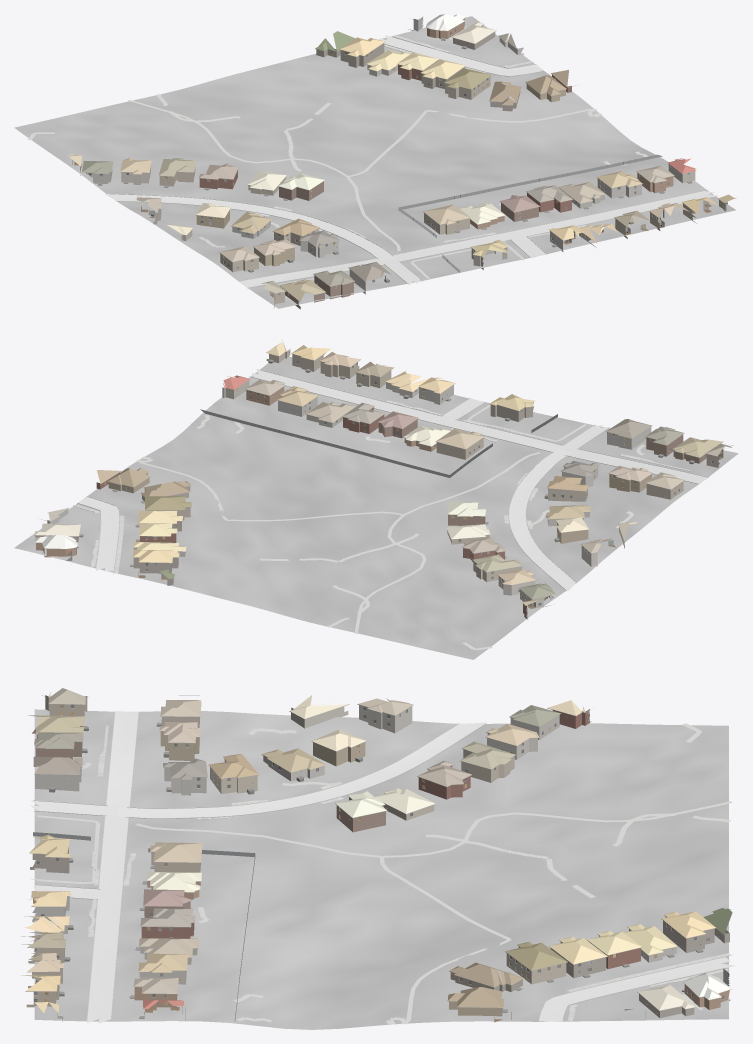
3 views of the same model, one above another, from view 1: azimuth 30°, elevation 25°; view 2: azimuth 150°, elevation 25°; view 3: azimuth 270°, elevation 25° (orthographic). The views are drawn at different scales.
Parts seen in each view (by area): view 1: ground, roof, wall, concrete, walk, asphalt, wall_stucco, detail, wall_stone, curb, chain; view 2: ground, roof, wall, concrete, walk, asphalt, wall_stucco, detail, wall_stone, curb, chain; view 3: ground, roof, wall, concrete, walk, asphalt, wall_stucco, detail, wall_stone, curb, glass, chain.
Part boxes in pixels (x1,y1,x2,y2): ground: (14,16,735,308); roof: (68,14,735,301); wall: (72,18,696,309); concrete: (239,35,718,287); walk: (28,27,647,284); asphalt: (104,194,420,284); wall_stucco: (121,16,726,247); detail: (66,17,727,301); wall_stone: (90,38,641,294); curb: (108,36,716,288); chain: (398,154,662,272); ground: (14,356,738,659); roof: (34,339,733,605); wall: (35,353,719,619); concrete: (77,369,707,571); walk: (73,400,690,650); asphalt: (509,425,609,591); wall_stucco: (72,349,624,595); detail: (34,351,724,616); wall_stone: (47,385,651,608); curb: (73,369,708,590); chain: (200,409,557,477); ground: (34,709,728,1029); roof: (21,688,732,1012); wall: (26,695,730,1019); concrete: (34,711,735,1023); walk: (30,723,731,1025); asphalt: (30,722,487,818); wall_stucco: (22,705,729,1020); detail: (21,695,731,1021); wall_stone: (32,715,676,1017); curb: (33,711,731,1021); glass: (34,704,729,1001); chain: (33,832,255,1021).
Bounding box in the file's own units: 259 × 19.04 × 261.
